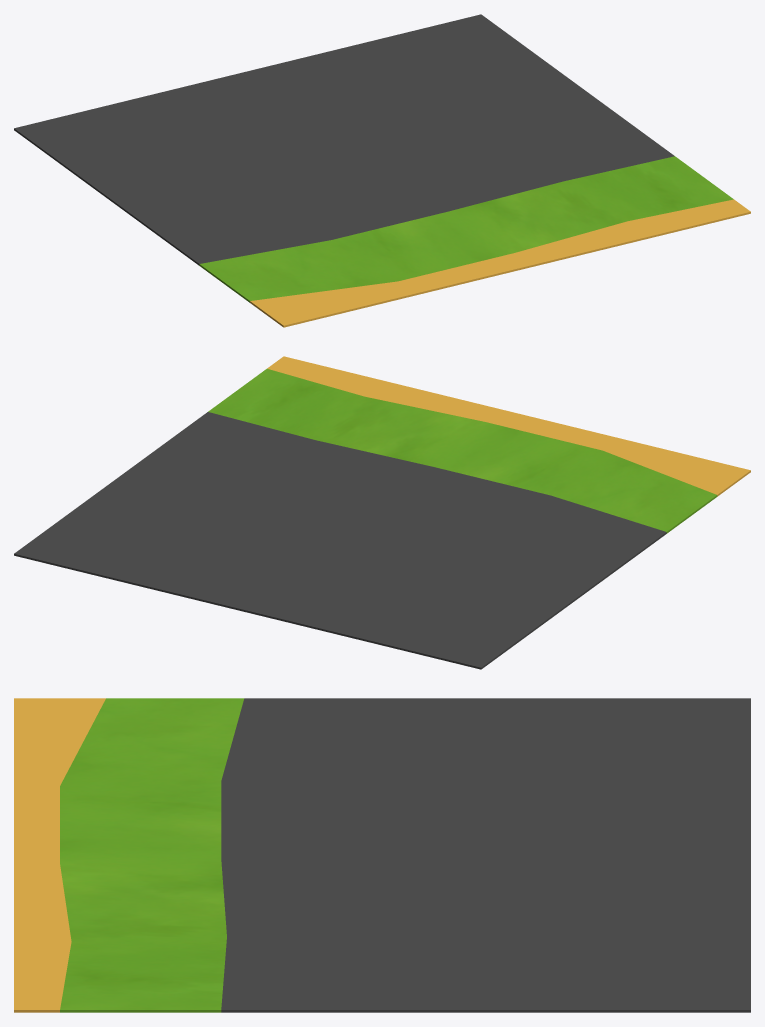
The picture shows the model from 3 angles, top to bottom: view 1: azimuth 30°, elevation 25°; view 2: azimuth 150°, elevation 25°; view 3: azimuth 270°, elevation 25°; orthographic projection. The views are drawn at different scales.
Parts seen in each view (by area): view 1: 01_street_base_plate-COL.052; view 2: 01_street_base_plate-COL.052; view 3: 01_street_base_plate-COL.052.
Boxes of the visible parts, x1,y1,x2,y2 form: 01_street_base_plate-COL.052: (14,14,750,327); 01_street_base_plate-COL.052: (14,356,750,669); 01_street_base_plate-COL.052: (14,698,750,1012).
Bounding box in the file's own units: 256 × 1 × 256.
3 materials, 1 textured.
